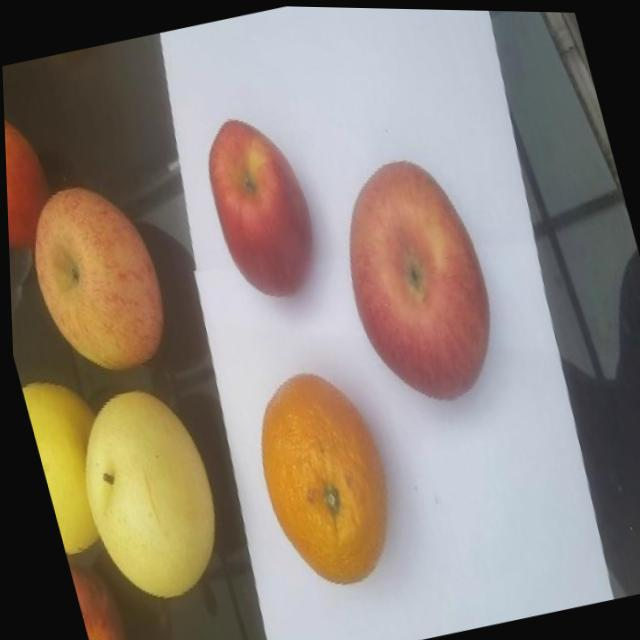Apple: (316, 141, 524, 419), (13, 167, 178, 378), (190, 102, 329, 309), (3, 98, 62, 259), (63, 553, 129, 640)
Orange: (230, 352, 420, 605)
